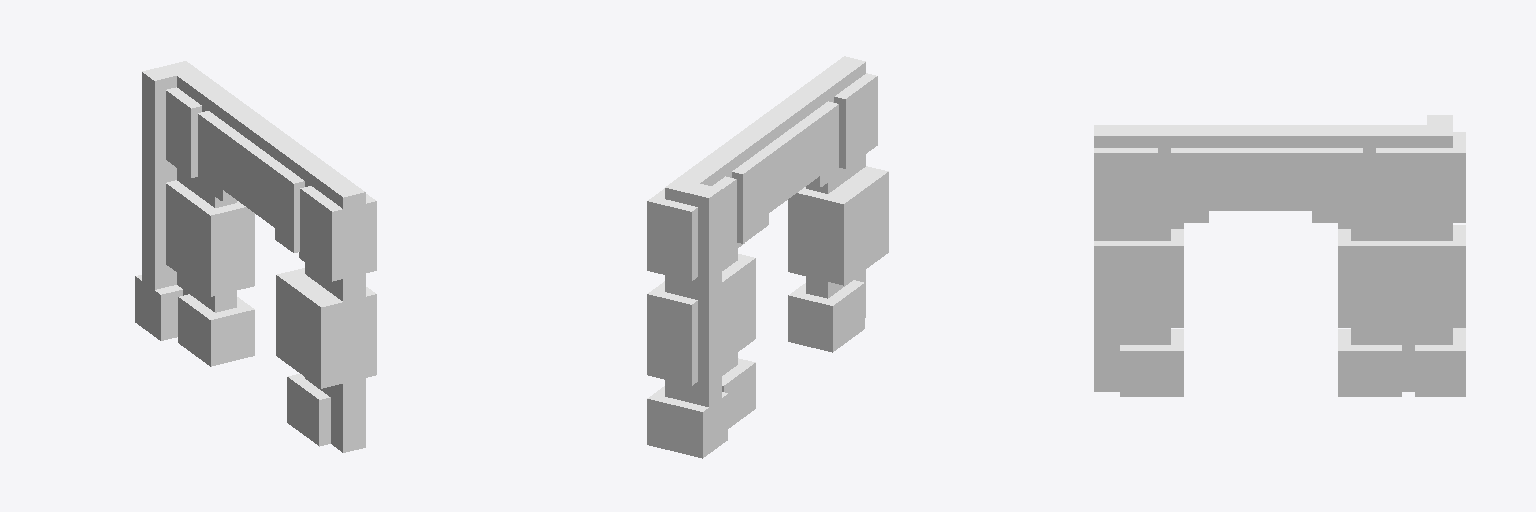
The model's file is walla.obj.
The picture shows the model from 3 angles: view 1: azimuth 30°, elevation 25°; view 2: azimuth 150°, elevation 25°; view 3: azimuth 270°, elevation 25°; orthographic projection.
Visible parts, largest first — view 1: object 1; view 2: object 1; view 3: object 1.
Part boxes in pixels (x1,y1,x2,y2): object 1: (135, 61, 376, 452); object 1: (647, 56, 888, 458); object 1: (1094, 115, 1465, 396).
Size of the model in its own units: 0.5 by 2.2 by 2.9.